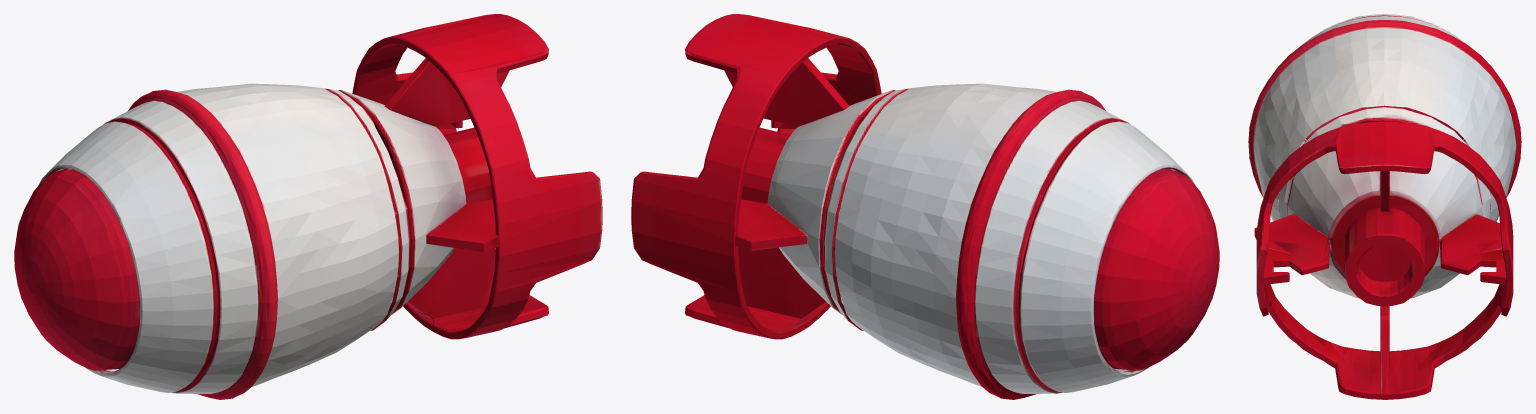
The model's file is Meshy_AI_Crimson_Orbit_Capsule_0707103850_texture.glb.
The picture shows the model from 3 angles, left to right: view 1: azimuth 30°, elevation 25°; view 2: azimuth 150°, elevation 25°; view 3: azimuth 270°, elevation 25°; orthographic projection. The views are drawn at different scales.
Size of the model in its own units: 1.9 by 1.05 by 1.06.
Materials: 1 (1 with a texture image).
